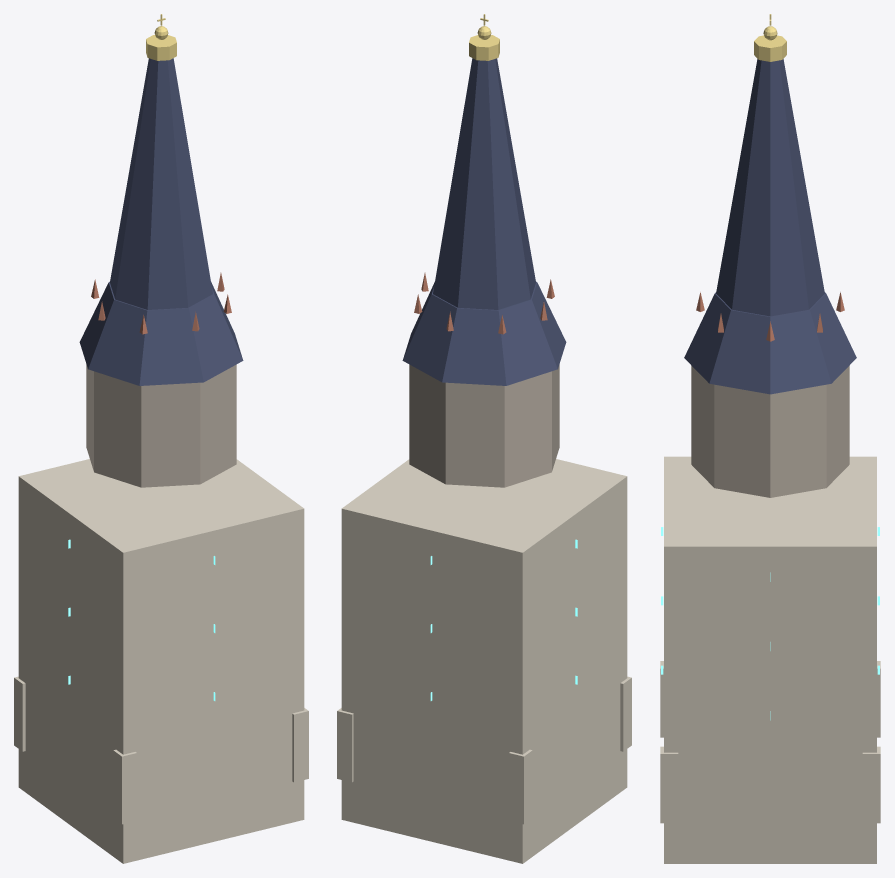
File: church_spire_v10.glb
3 renders of one model, left to right at view 1: azimuth 30°, elevation 25°; view 2: azimuth 150°, elevation 25°; view 3: azimuth 270°, elevation 25°, orthographic.
Parts seen in each view (by area): view 1: Cube, Cone.001, Cylinder, Cone, Cube.001, Cube.002, Cube.003, Cylinder.001; view 2: Cube, Cone.001, Cylinder, Cone, Cube.003, Cube.004, Cube.001, Cylinder.001; view 3: Cube, Cone.001, Cylinder, Cone, Cube.002, Cube.004, Cylinder.001.
Boxes of the visible parts, bbox=[...] form: Cube: bbox=[18, 459, 304, 863]; Cone.001: bbox=[110, 58, 212, 309]; Cylinder: bbox=[86, 364, 236, 487]; Cone: bbox=[79, 281, 243, 385]; Cube.001: bbox=[113, 749, 136, 824]; Cube.002: bbox=[292, 708, 308, 782]; Cube.003: bbox=[14, 676, 25, 751]; Cylinder.001: bbox=[146, 35, 176, 60]; Cube: bbox=[341, 459, 627, 863]; Cone.001: bbox=[433, 58, 535, 309]; Cylinder: bbox=[409, 364, 559, 487]; Cone: bbox=[402, 281, 566, 385]; Cube.003: bbox=[509, 749, 532, 824]; Cube.004: bbox=[337, 708, 353, 782]; Cube.001: bbox=[620, 676, 631, 751]; Cylinder.001: bbox=[469, 35, 499, 60]; Cube: bbox=[664, 456, 876, 863]; Cone.001: bbox=[716, 59, 824, 316]; Cylinder: bbox=[691, 366, 849, 497]; Cone: bbox=[684, 292, 856, 394]; Cube.002: bbox=[660, 746, 678, 823]; Cube.004: bbox=[862, 746, 880, 823]; Cylinder.001: bbox=[754, 35, 786, 61].
Bounding box in the file's own units: 4.02 × 16.23 × 4.02.
